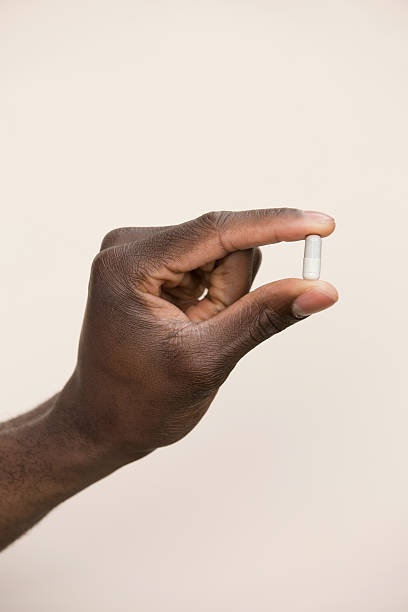pills: (299, 228, 322, 291)
